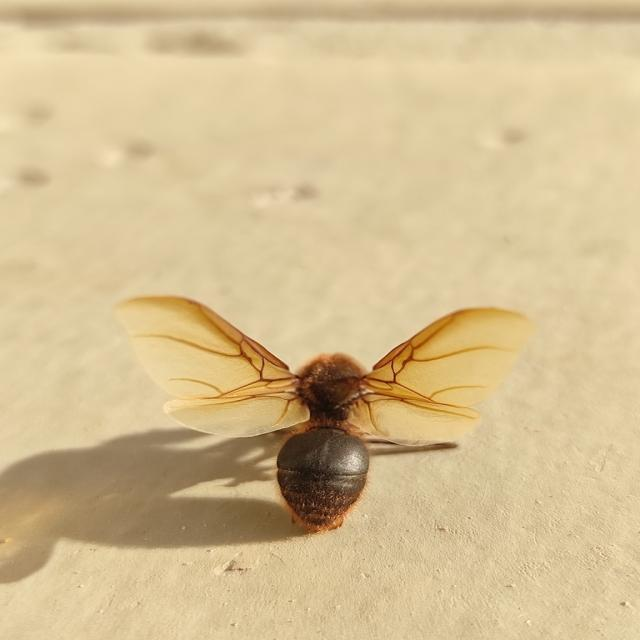Dead-Male-Alate: (114, 296, 534, 535)
